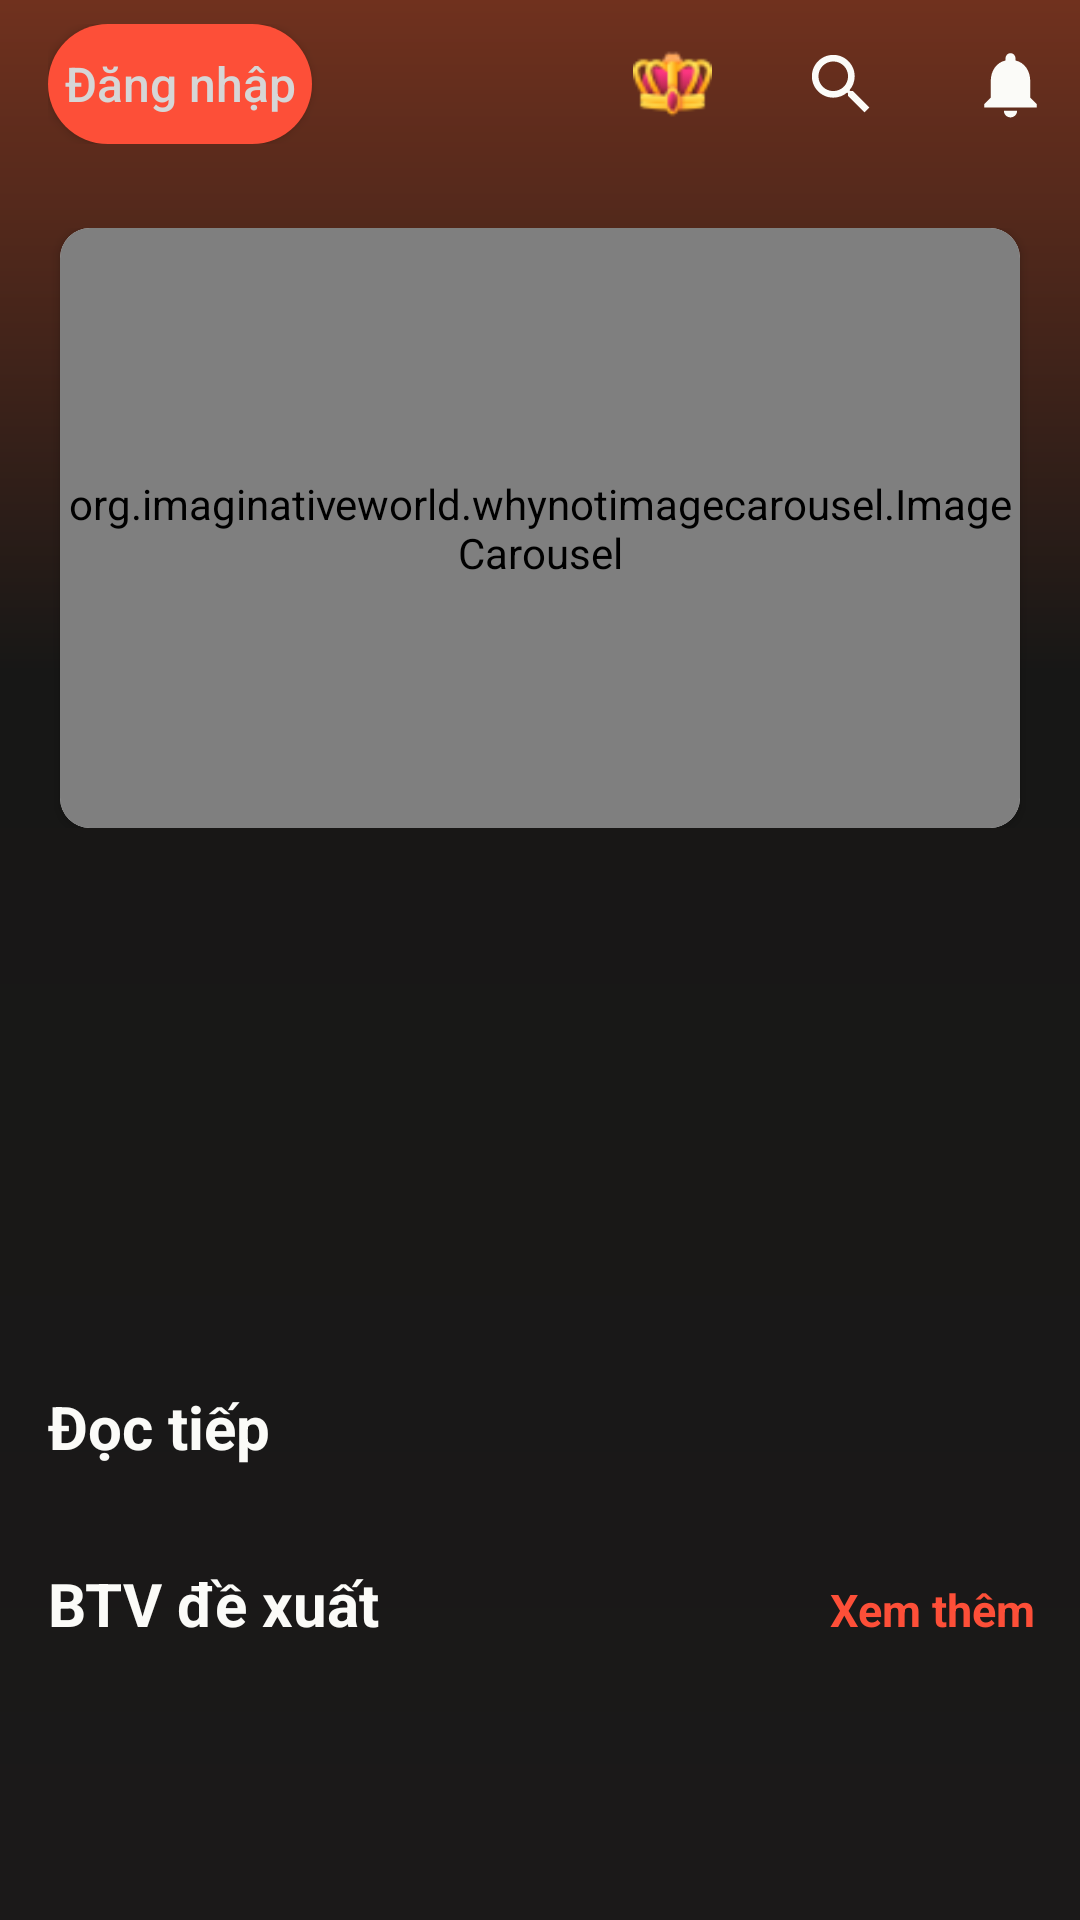

Screen size 1080px×1920px. Icon name, then its center in pixels as (x,y):
notifications: (1010,85)
prince: (672,83)
